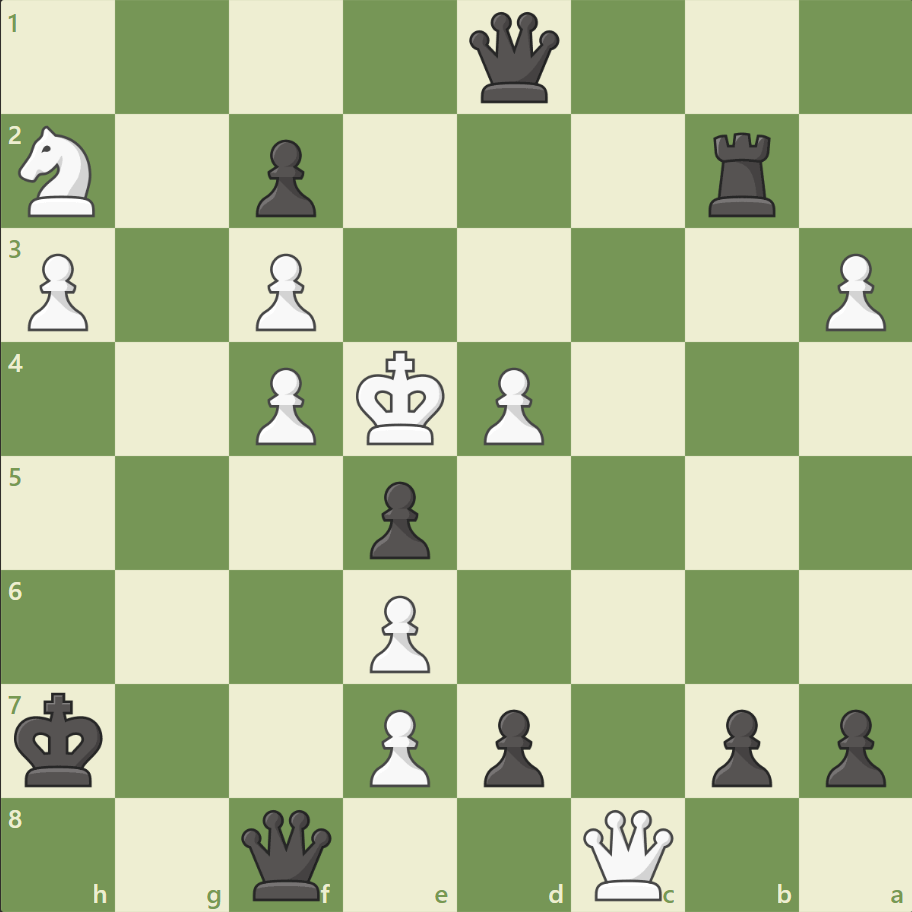K: (351, 344, 451, 452)
N: (11, 121, 108, 223)
P: (474, 359, 549, 450), (247, 359, 322, 450), (247, 246, 322, 337), (20, 246, 95, 337), (361, 700, 435, 791), (361, 586, 435, 677), (815, 246, 889, 337)
Q: (578, 804, 677, 903)
k: (11, 685, 111, 793)
p: (701, 700, 776, 791), (474, 700, 549, 791), (247, 132, 322, 223), (815, 700, 889, 791), (361, 473, 435, 564)
q: (237, 804, 336, 903), (464, 9, 563, 108)
r: (700, 125, 783, 222)
